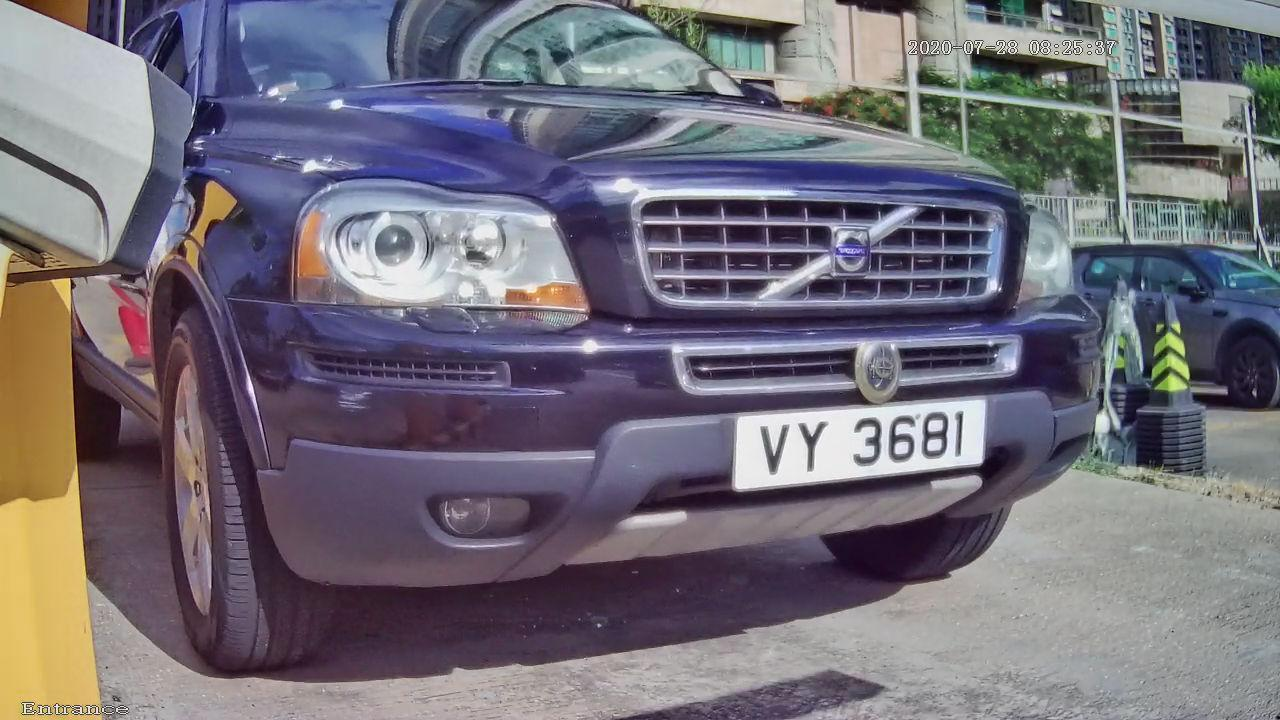privatecar: (12, 17, 1212, 679)
